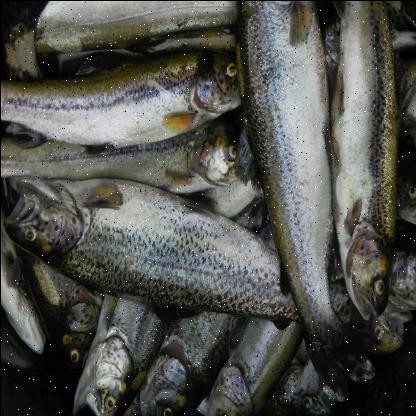fish: (6, 178, 386, 355), (0, 49, 281, 150), (324, 0, 400, 322)
